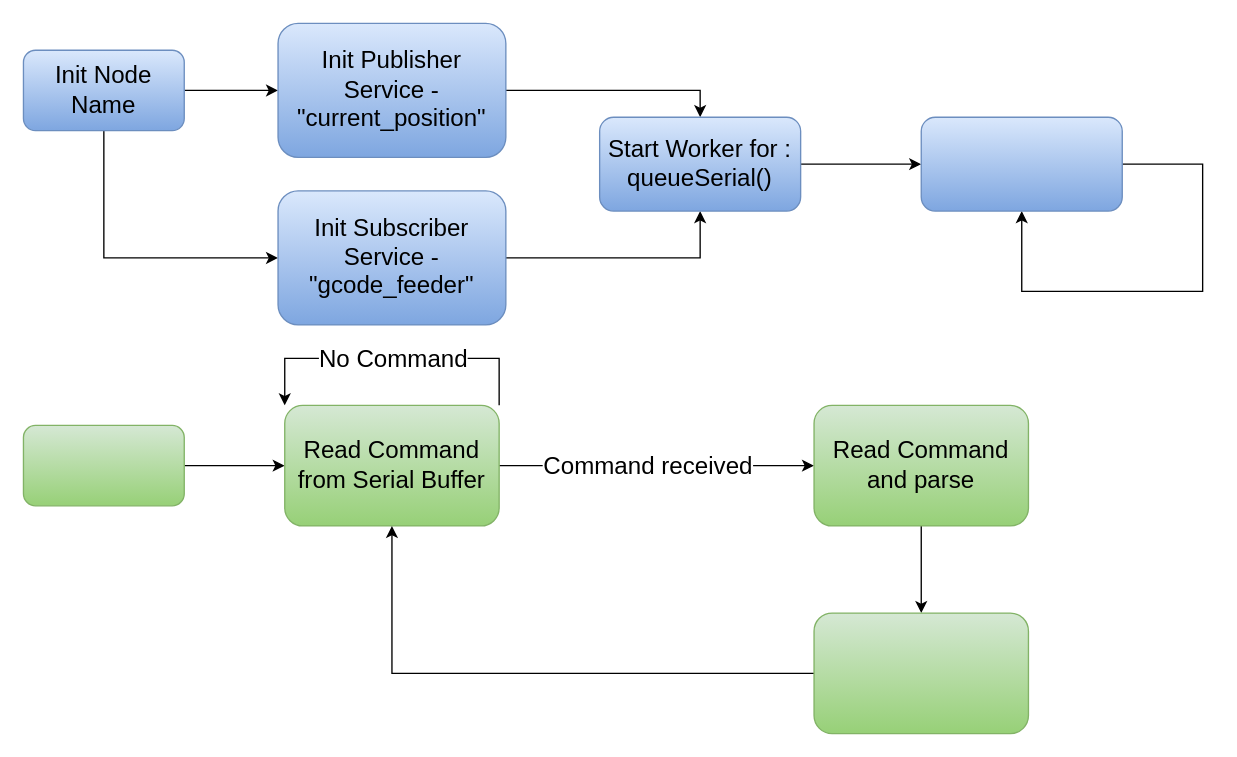
Image size: 1237x757. Some labels were removed from this diagram. The box of each missing label's shape, as (x1, y1, x2, y2) in pixels:
Init queueSerial(): (22, 424, 184, 506)
Publish current machine status from class: (920, 116, 1122, 211)
Send Command to ESP Serial Terminal: (813, 612, 1028, 734)
